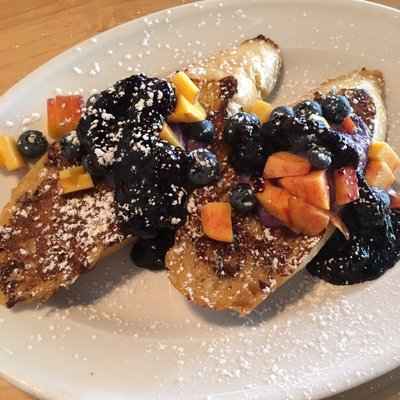pizza: (47, 95, 84, 140), (262, 151, 311, 179), (201, 202, 234, 243)
